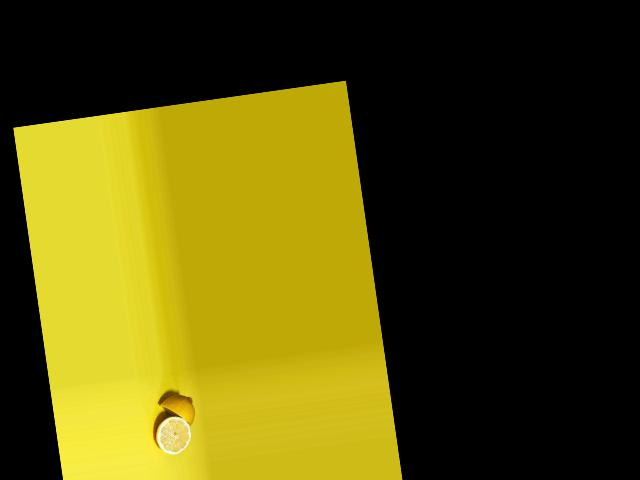lemon: (153, 390, 197, 431)
